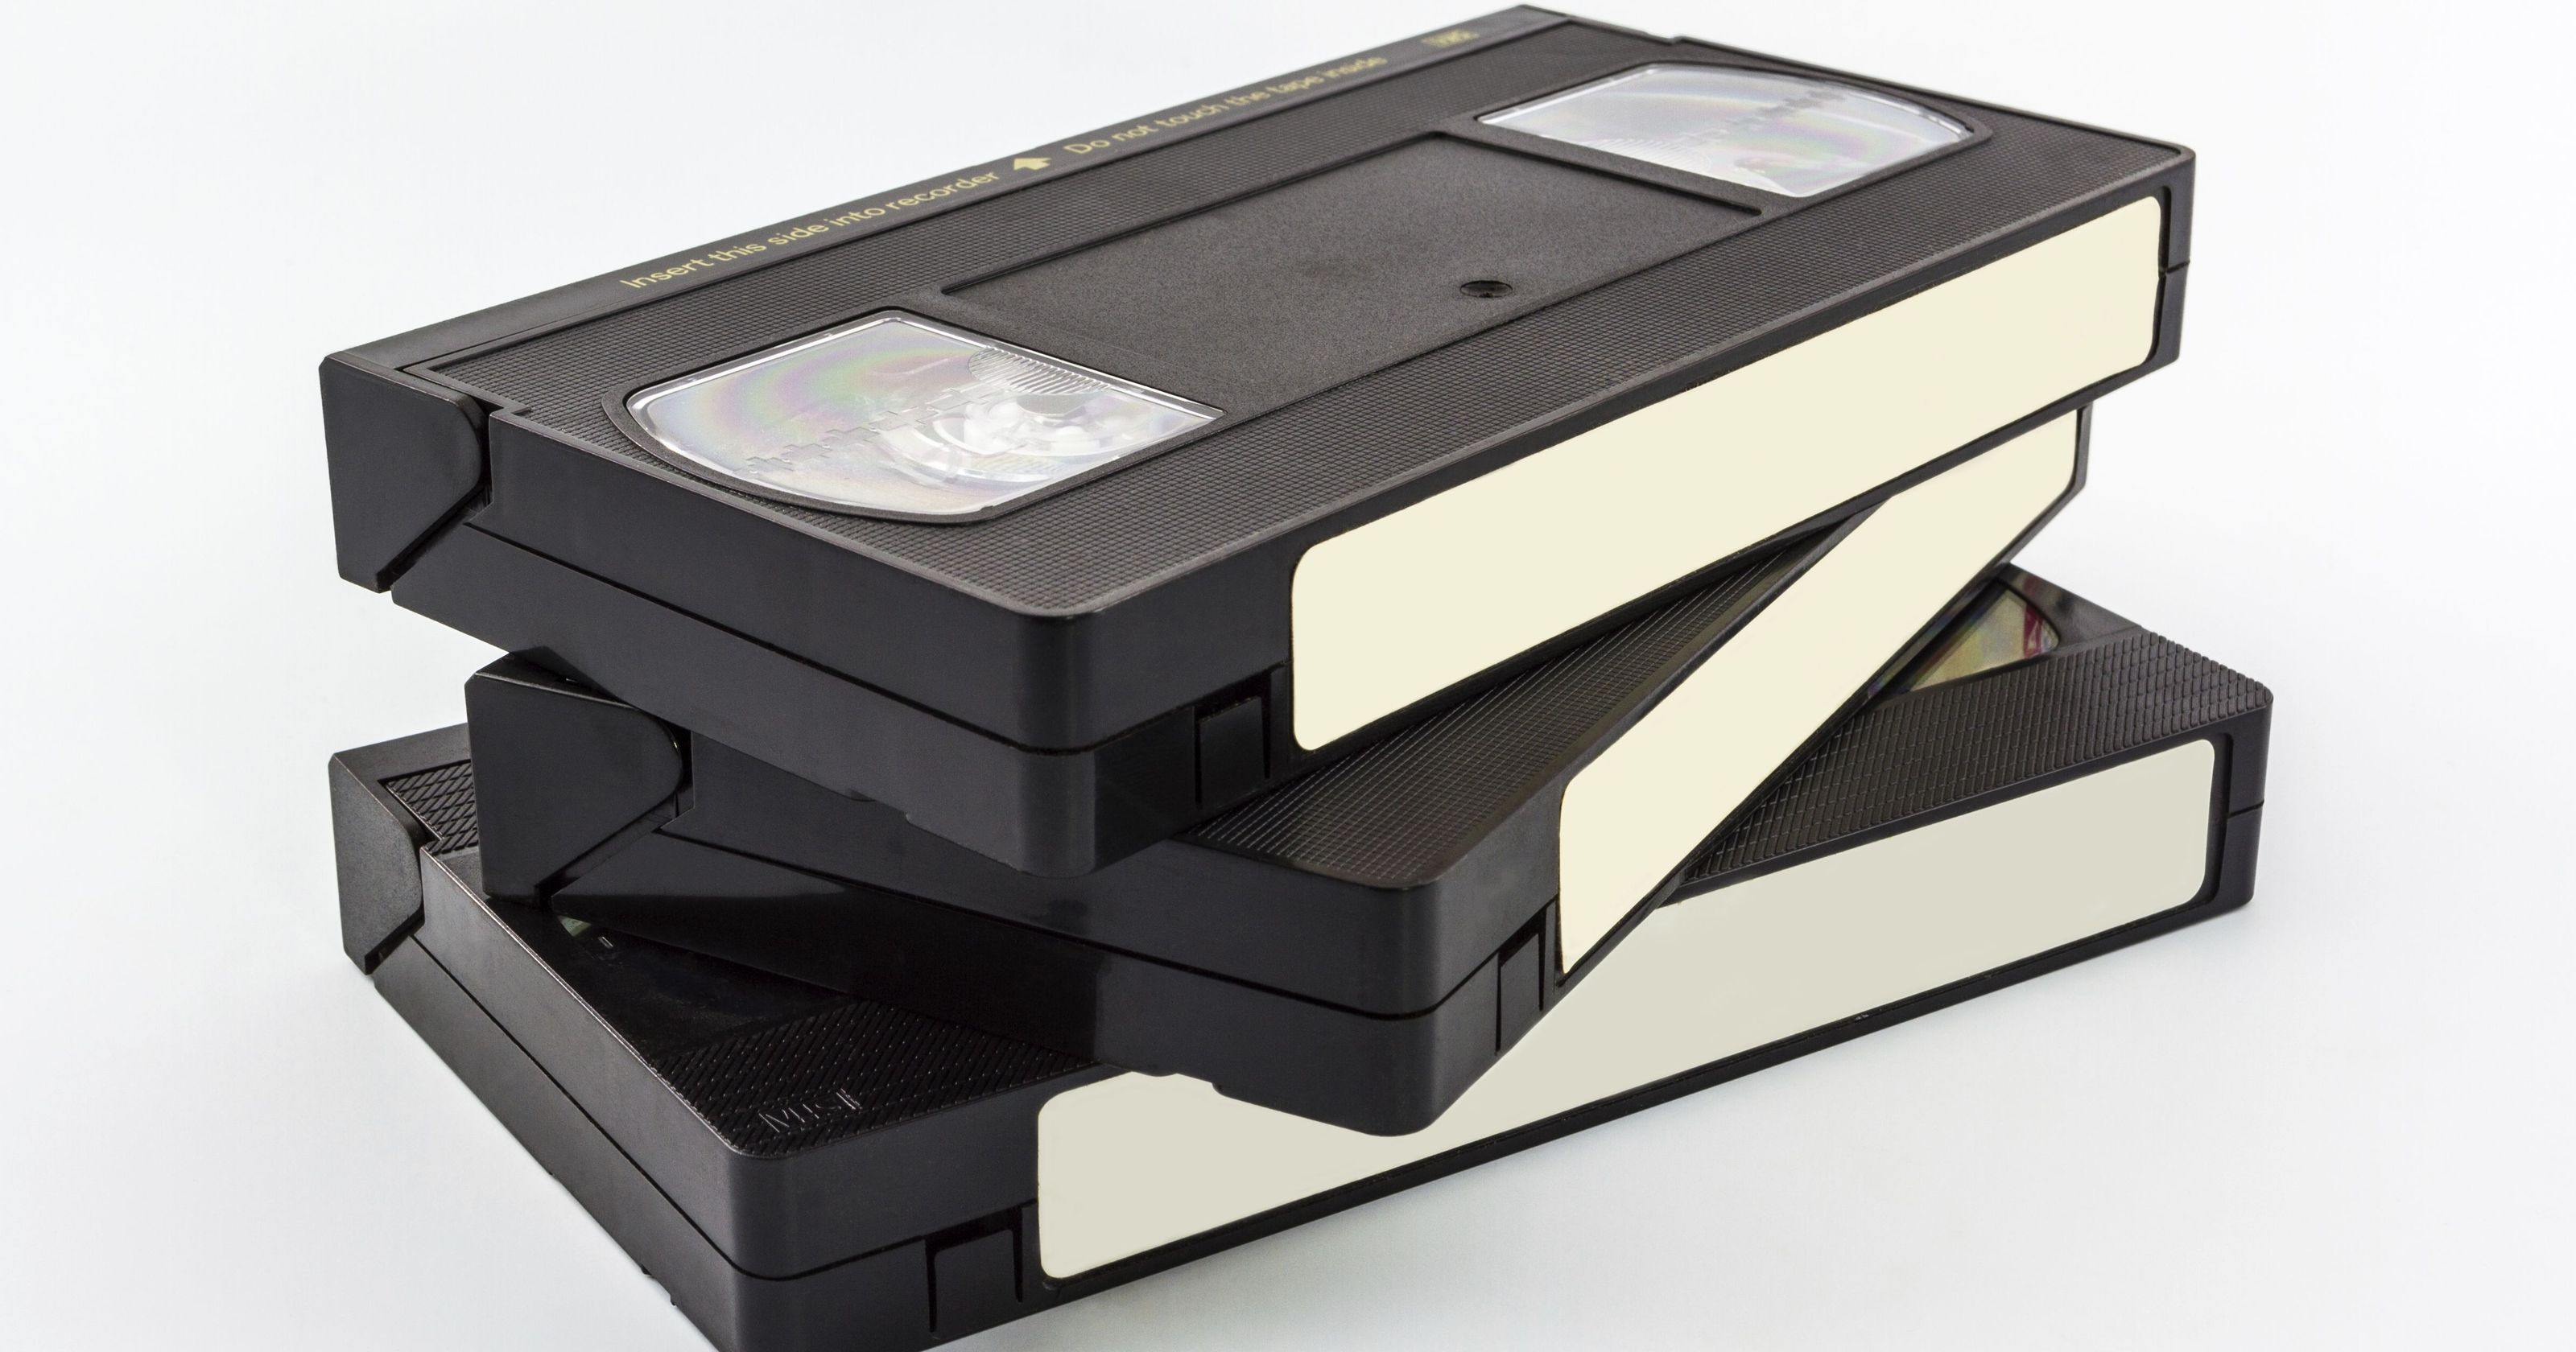Nonrec_Other: (177, 32, 2360, 1352)
